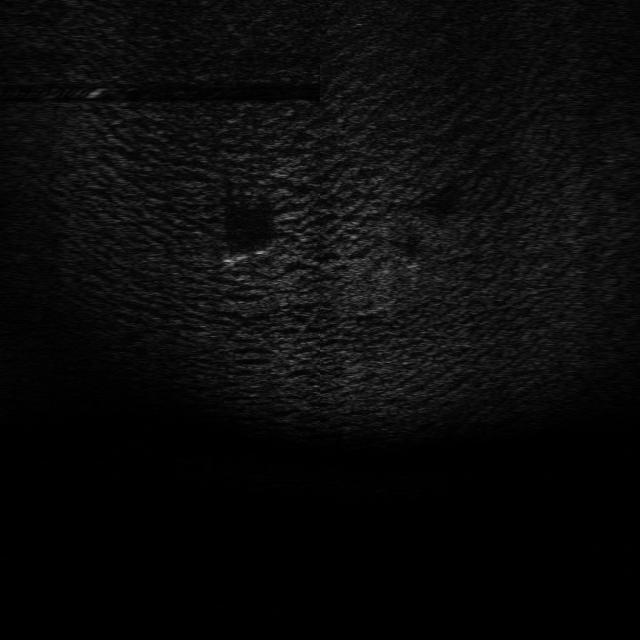plane: (220, 238, 280, 270)
